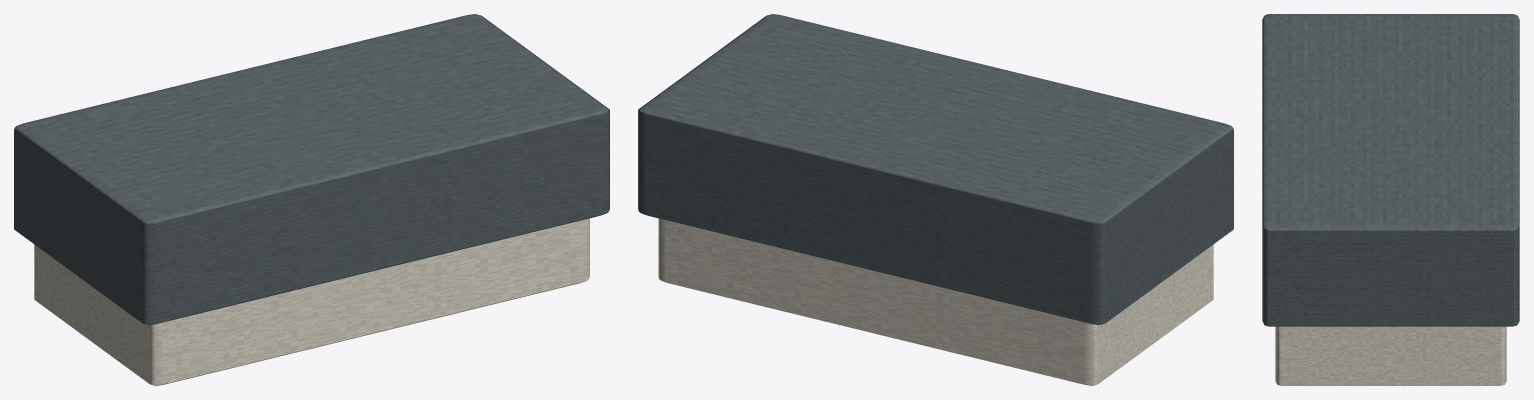
File: worklight.glb
The picture shows the model from 3 angles, left to right: view 1: azimuth 30°, elevation 25°; view 2: azimuth 150°, elevation 25°; view 3: azimuth 270°, elevation 25°; orthographic projection. The views are drawn at different scales.
Parts seen in each view (by area): view 1: housing, diffuser; view 2: housing, diffuser; view 3: housing, diffuser.
Boxes of the visible parts, box(x1,y1,x2,y2) form: housing: box(14, 14, 609, 324); diffuser: box(34, 218, 589, 385); housing: box(638, 14, 1233, 324); diffuser: box(658, 218, 1213, 385); housing: box(1262, 14, 1519, 326); diffuser: box(1275, 326, 1506, 385).
Bounding box in the file's own units: 0.28 × 0.0995 × 0.14.
Materials: 2 (2 with a texture image).
